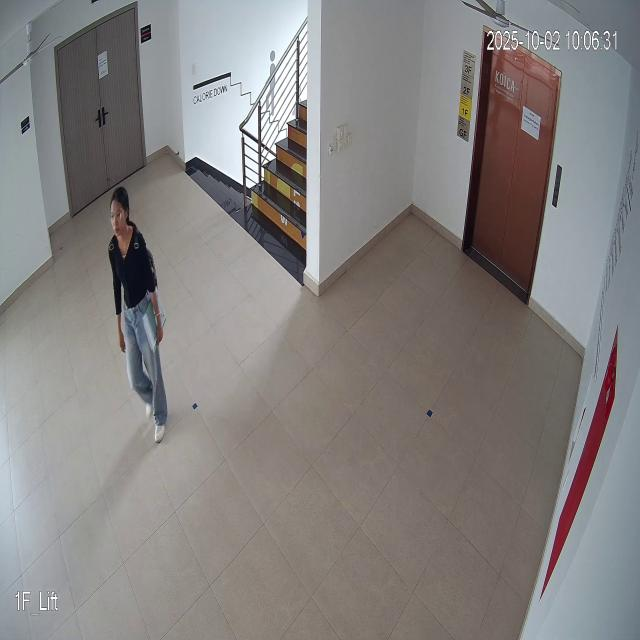face: (107, 181, 134, 248)
